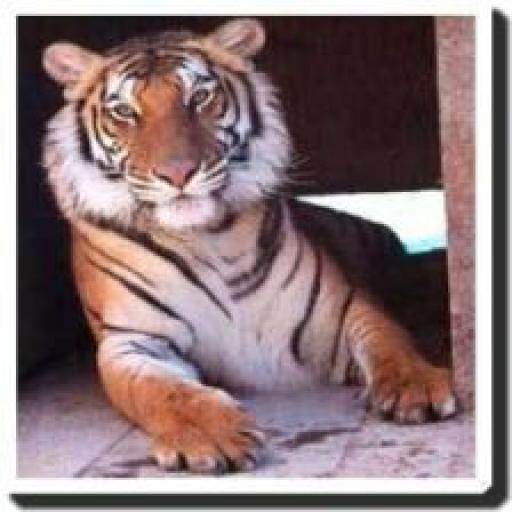Tiger: (39, 18, 459, 473)
